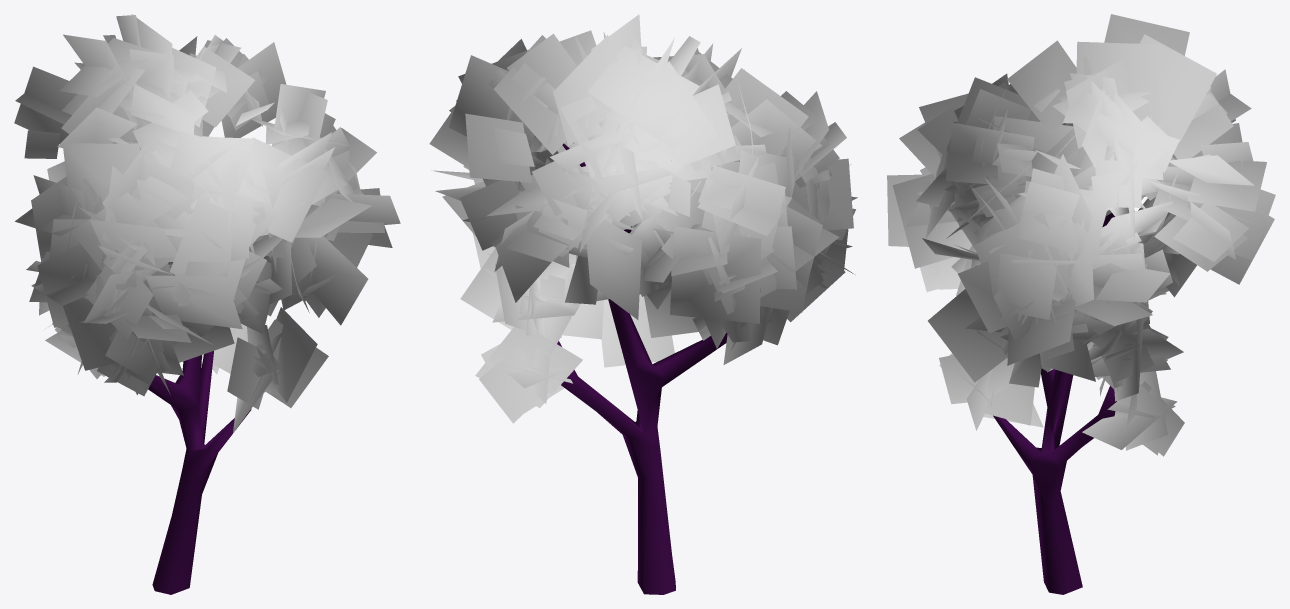
The model's file is m_TreeSmall2_LOD1.fbx.
3 renders of one model, left to right at view 1: azimuth 30°, elevation 25°; view 2: azimuth 150°, elevation 25°; view 3: azimuth 270°, elevation 25°, orthographic. The views are drawn at different scales.
Parts seen in each view (by area): view 1: TreeSmall2_LOD1; view 2: TreeSmall2_LOD1; view 3: TreeSmall2_LOD1.
Part boxes in pixels (x1=…): TreeSmall2_LOD1: x1=14, y1=14, x2=400, y2=594; TreeSmall2_LOD1: x1=429, y1=14, x2=857, y2=594; TreeSmall2_LOD1: x1=887, y1=14, x2=1275, y2=594.
Bounding box in the file's own units: 749 × 1106 × 702.
